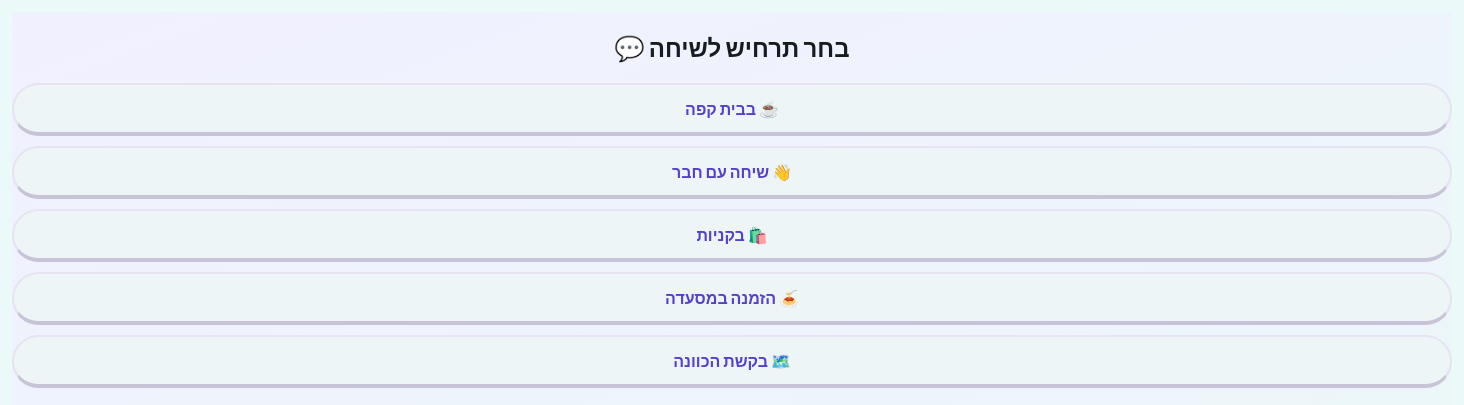
Scenario: DialogueCoach external AI escape hatch › does not show external AI chat links when there is no error
Click the button "☕ בבית קפה". click: click(732, 109)
box: 12,83 -> 1452,136
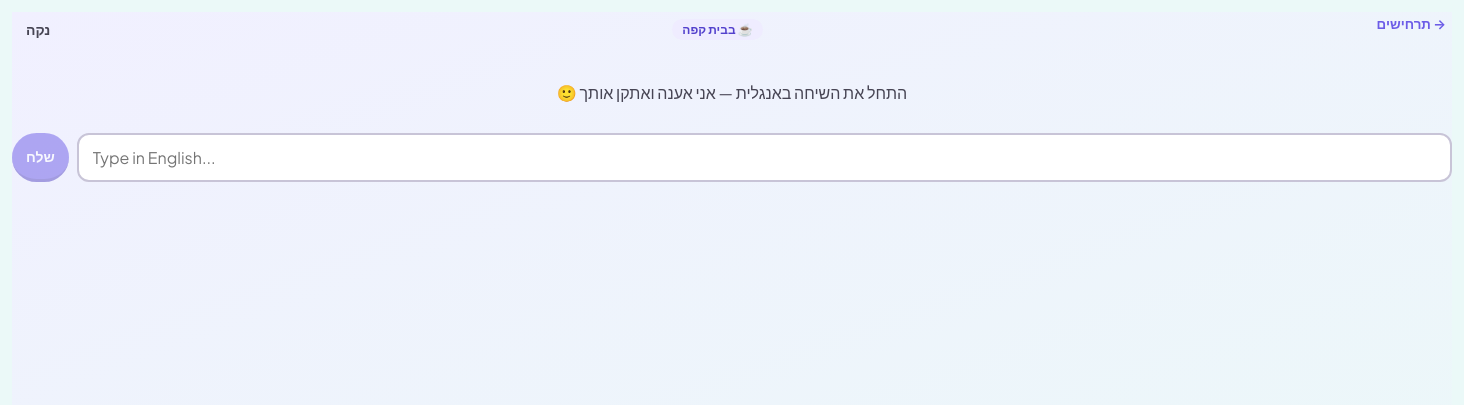
Type "Can I get a coffee?" into the field with placeholder "Type in English...". click: (764, 158)
box: 77,133 -> 1452,182
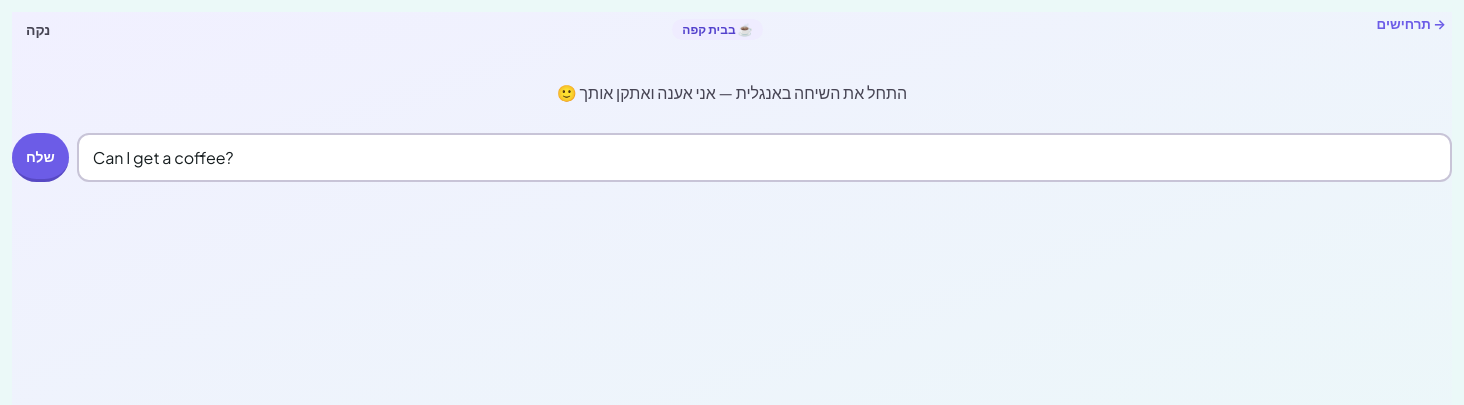
Press Enter in the field with placeholder "Type in English...", box 77,133 -> 1452,182
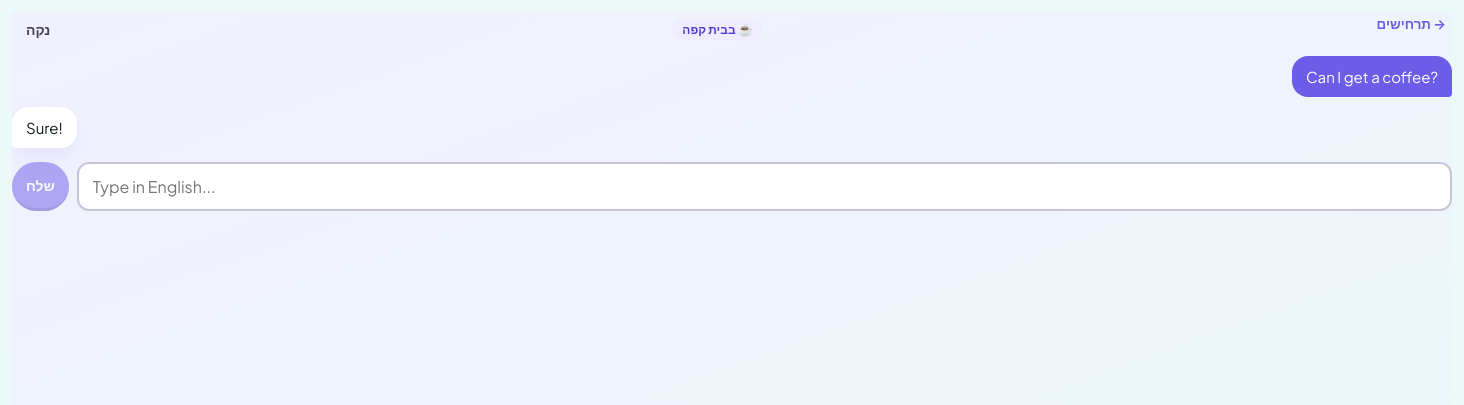
Now the text "Sure!" is shown, box 26,117 -> 63,138
